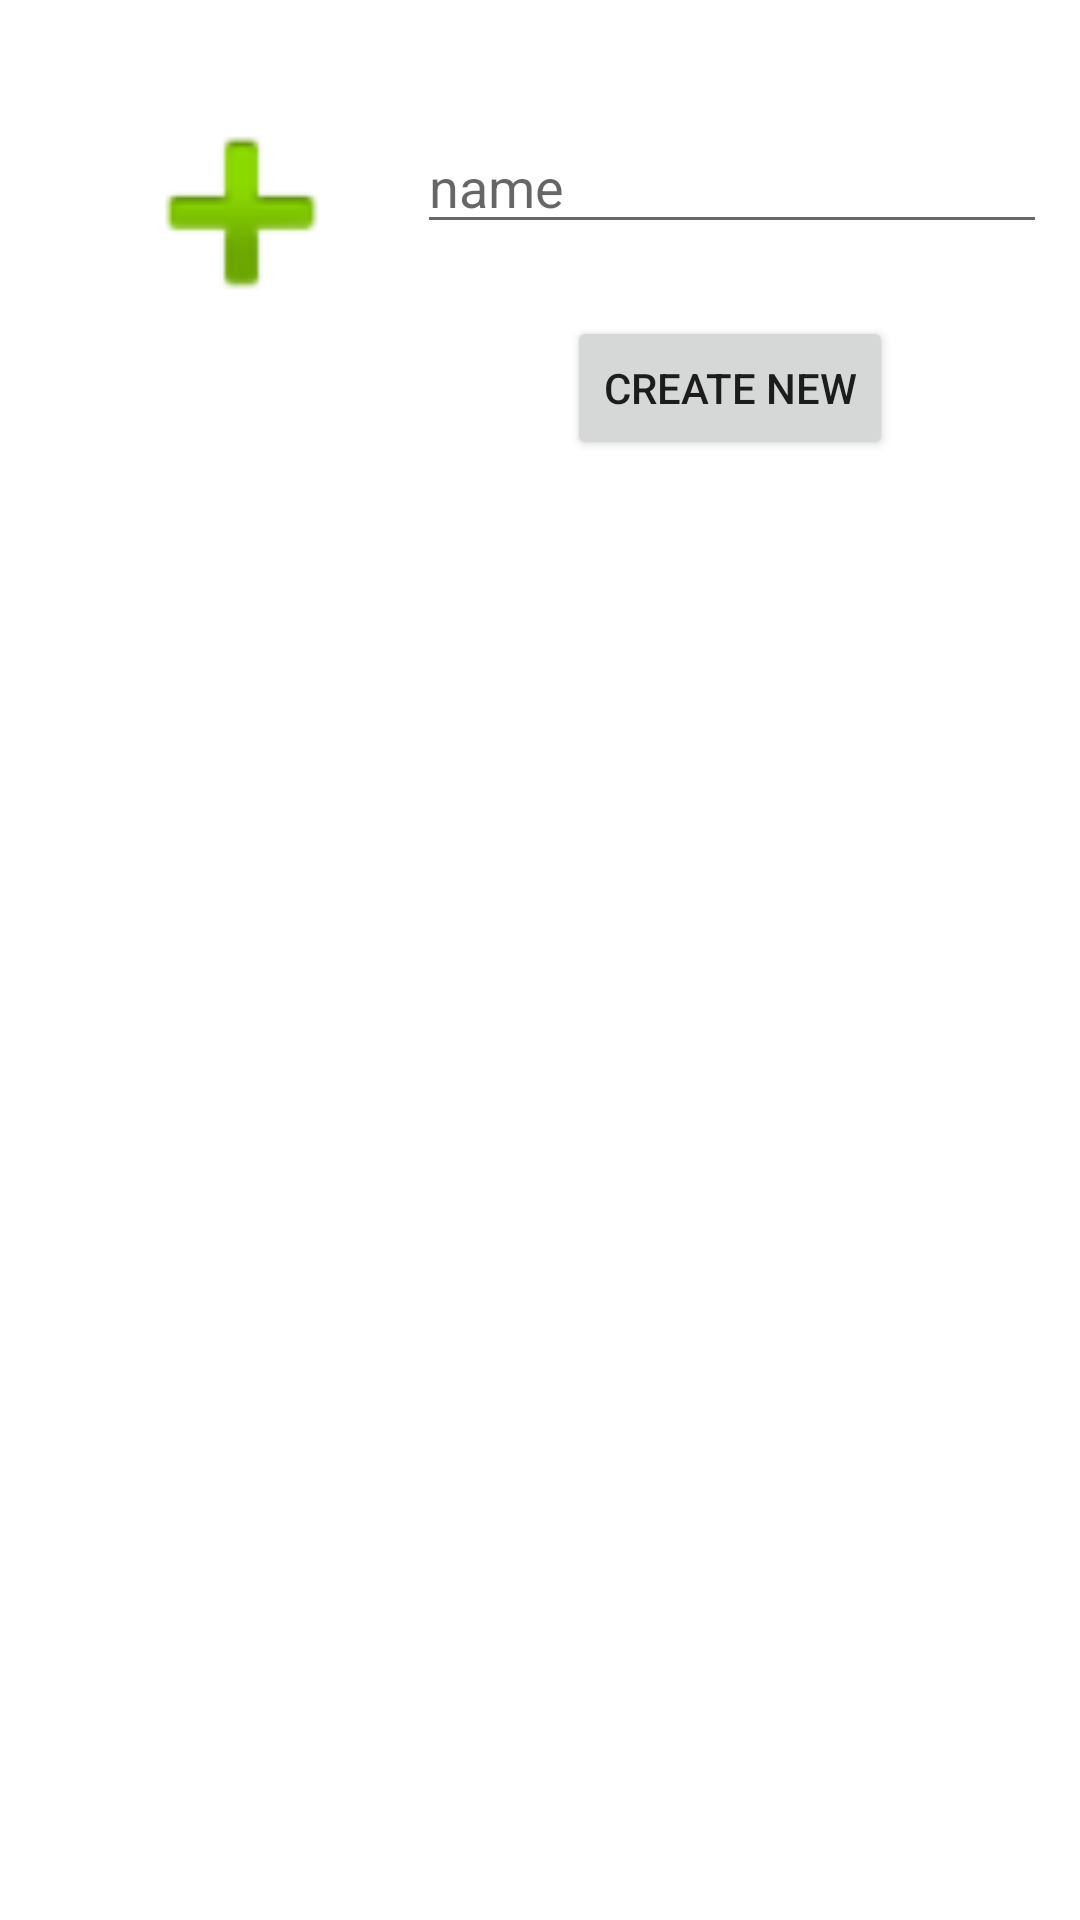

Named icons in this screenshot (1080x1920) and their centers, (x,y):
add: (241,213)
